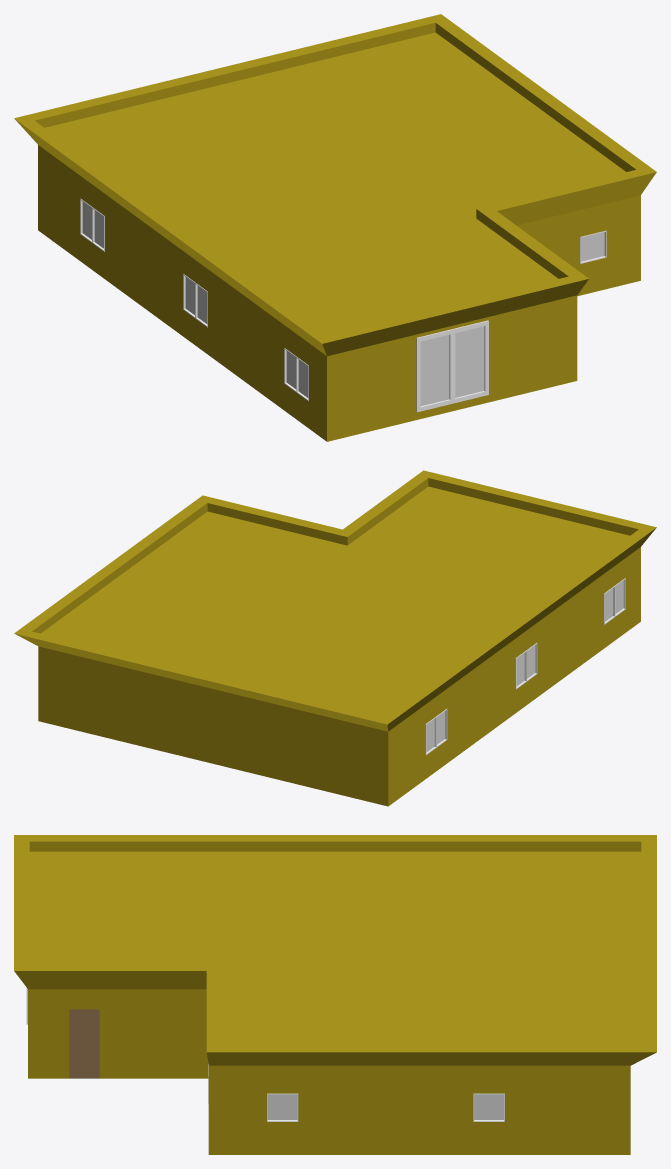
Rendered from House_17.fbx.
3 views of the same model, one above another, from view 1: azimuth 30°, elevation 25°; view 2: azimuth 150°, elevation 25°; view 3: azimuth 270°, elevation 25° (orthographic). The views are drawn at different scales.
Parts seen in each view (by area): view 1: House_17_Body; view 2: House_17_Body; view 3: House_17_Body.
Boxes of the visible parts, x1,y1,x2,y2 form: House_17_Body: (14, 14, 656, 441); House_17_Body: (14, 470, 656, 806); House_17_Body: (14, 835, 656, 1154).
Bounding box in the file's own units: 1706 × 404 × 2133.
